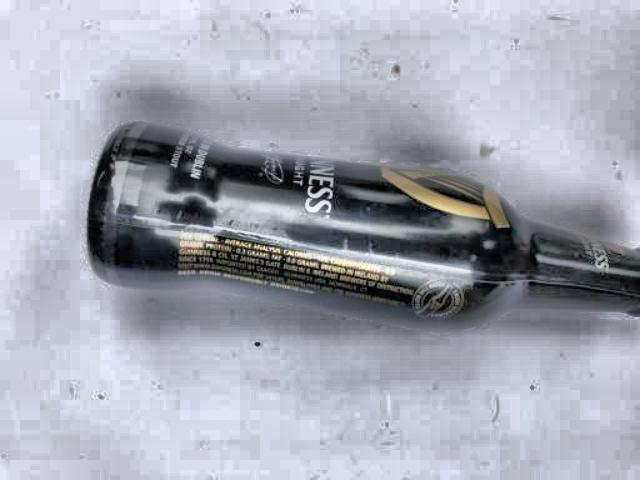Bottles: (86, 104, 638, 340)
